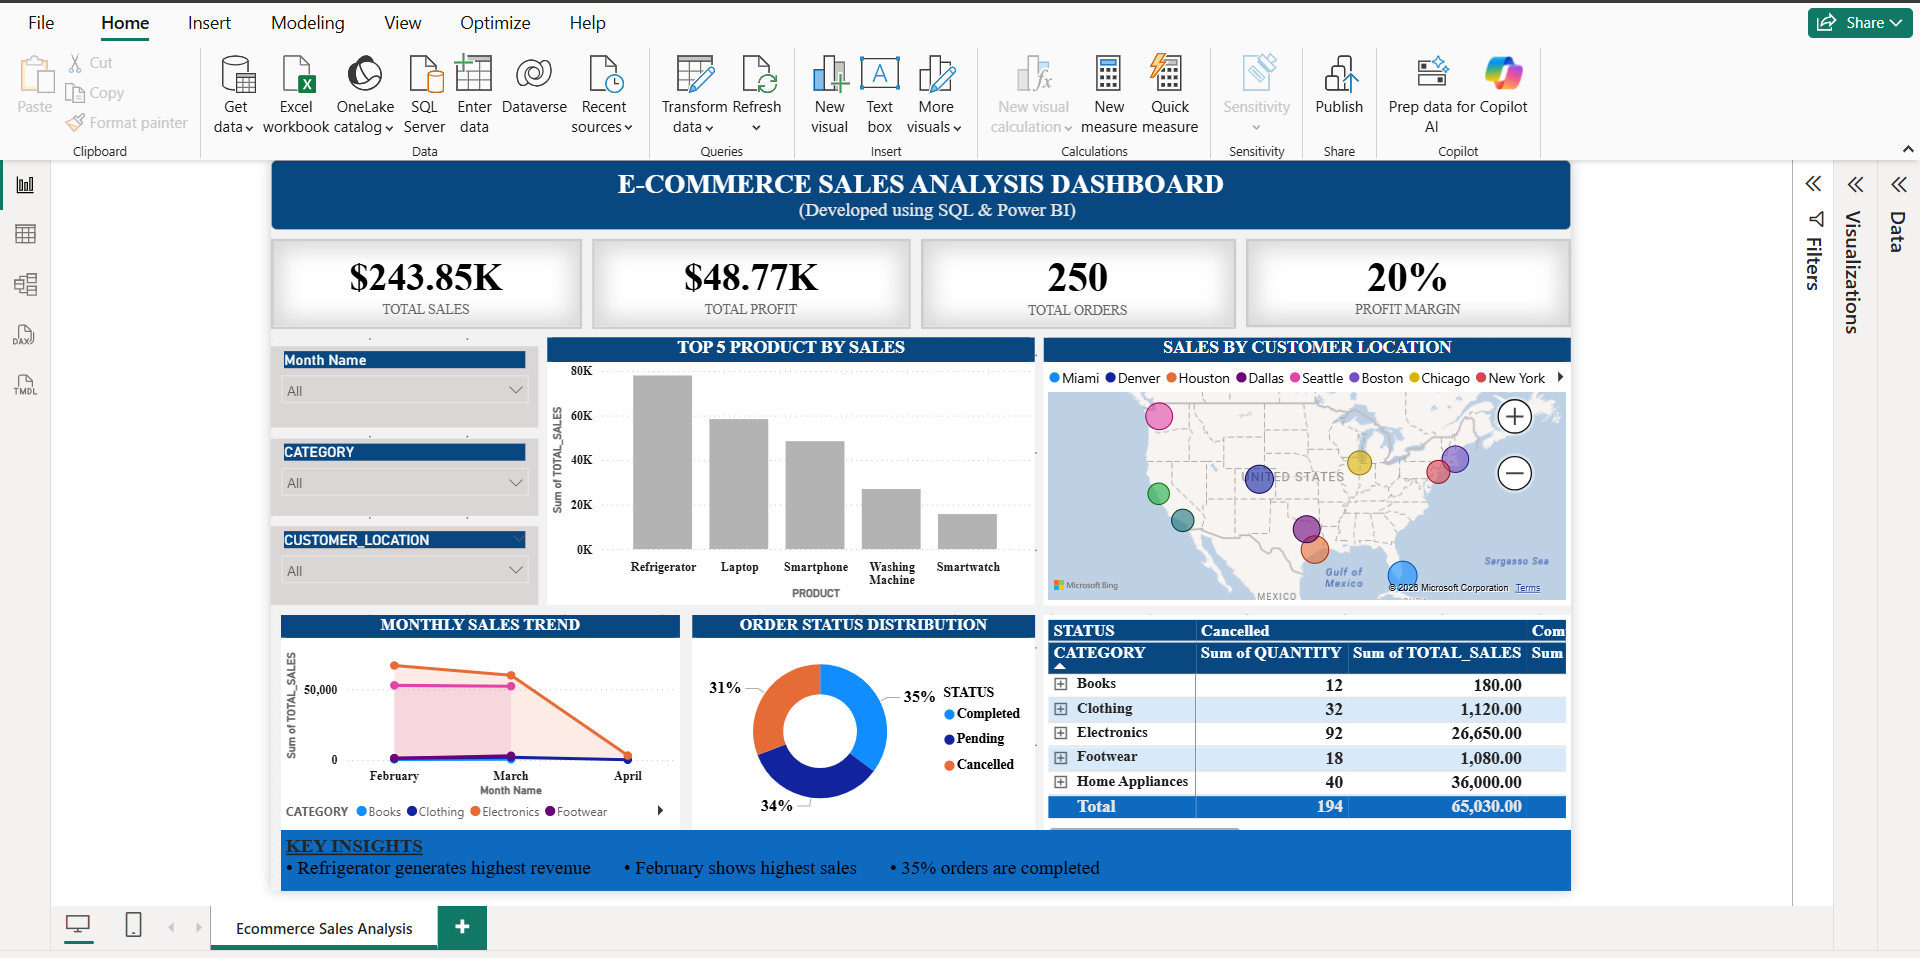

Layout of this report page (visuals, bound fields, positions):
{"tool":"powerbi","page":{"name":"Ecommerce Sales Analysis","canvas":[1280,720],"ordinal":0},"visuals":[{"type":"textbox","box":[0,0,1280,68.9],"z":0},{"type":"card","fields":{"Values":["AMAZON_SALES.TOTAL SALES"]},"box":[0,77.5,306.5,88.6],"z":1000},{"type":"card","fields":{"Values":["AMAZON_SALES.TOTAL PROFIT"]},"box":[316.3,77.5,313.8,88.6],"z":2000},{"type":"card","fields":{"Values":["AMAZON_SALES.TOTAL ORDERS"]},"box":[640,77.5,310.2,88.6],"z":3000},{"type":"card","fields":{"Values":["AMAZON_SALES.PROFIT MARGIN"]},"box":[960,77.5,320,87.4],"z":4000},{"type":"columnChart","title":"TOP 5 PRODUCT BY SALES","fields":{"Category":["AMAZON_SALES.PRODUCT"],"Y":["Sum(AMAZON_SALES.TOTAL_SALES)"]},"box":[272,174.8,480,263.4],"z":5000},{"type":"map","title":"SALES BY CUSTOMER LOCATION","fields":{"Category":["AMAZON_SALES.CUSTOMER_LOCATION","AMAZON_SALES.TOTAL_SALES"],"Series":["AMAZON_SALES.CUSTOMER_LOCATION"],"Size":["Sum(AMAZON_SALES.TOTAL_SALES)"]},"box":[760.6,174.8,519.4,263.4],"z":6000},{"type":"pivotTable","fields":{"Rows":["AMAZON_SALES.CATEGORY","AMAZON_SALES.PRODUCT"],"Values":["Sum(AMAZON_SALES.QUANTITY)","Sum(AMAZON_SALES.TOTAL_SALES)"],"Columns":["AMAZON_SALES.STATUS"]},"box":[760.6,448,519.4,222.8],"z":7000},{"type":"donutChart","title":"ORDER STATUS DISTRIBUTION","fields":{"Category":["AMAZON_SALES.STATUS"],"Y":["AMAZON_SALES.TOTAL ORDERS"]},"box":[414.8,448,337.2,211.7],"z":8000},{"type":"slicer","fields":{"Values":["AMAZON_SALES.CUSTOMER_LOCATION"]},"box":[0,360.6,263.4,77.5],"z":9000},{"type":"slicer","fields":{"Values":["AMAZON_SALES.Month Name"]},"box":[0,183.4,263.4,80],"z":10000},{"type":"slicer","fields":{"Values":["AMAZON_SALES.CATEGORY"]},"box":[0,274.5,263.4,76.3],"z":11000},{"type":"areaChart","title":"MONTHLY SALES TREND","fields":{"Category":["AMAZON_SALES.Month Name"],"Y":["Sum(AMAZON_SALES.TOTAL_SALES)"],"Series":["AMAZON_SALES.CATEGORY"]},"box":[9.8,448,392.6,211.7],"z":12000},{"type":"textbox","box":[9.8,659.7,1270.2,60.3],"z":13000}]}

Visuals, with their boxes on the page's 1280x720 design canvas (x1, y1, x2, y2). These are canvas units, not pixel positions in the 1920x958 screenshot, which may show the page scaled, cropped or inside an application window:
textbox: x1=0, y1=0, x2=1280, y2=69
card - AMAZON_SALES.TOTAL SALES: x1=0, y1=78, x2=306, y2=166
card - AMAZON_SALES.TOTAL PROFIT: x1=316, y1=78, x2=630, y2=166
card - AMAZON_SALES.TOTAL ORDERS: x1=640, y1=78, x2=950, y2=166
card - AMAZON_SALES.PROFIT MARGIN: x1=960, y1=78, x2=1280, y2=165
"TOP 5 PRODUCT BY SALES" columnChart: x1=272, y1=175, x2=752, y2=438
"SALES BY CUSTOMER LOCATION" map: x1=761, y1=175, x2=1280, y2=438
pivotTable - AMAZON_SALES.CATEGORY x AMAZON_SALES.PRODUCT: x1=761, y1=448, x2=1280, y2=671
"ORDER STATUS DISTRIBUTION" donutChart: x1=415, y1=448, x2=752, y2=660
slicer - AMAZON_SALES.CUSTOMER_LOCATION: x1=0, y1=361, x2=263, y2=438
slicer - AMAZON_SALES.Month Name: x1=0, y1=183, x2=263, y2=263
slicer - AMAZON_SALES.CATEGORY: x1=0, y1=274, x2=263, y2=351
"MONTHLY SALES TREND" areaChart: x1=10, y1=448, x2=402, y2=660
textbox: x1=10, y1=660, x2=1280, y2=720
